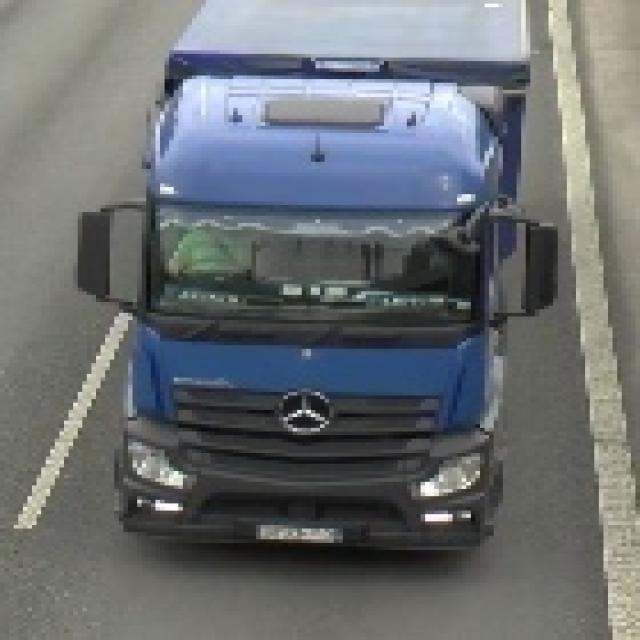TRUCK: (78, 3, 544, 560)
